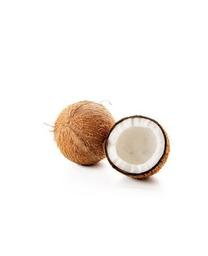coconut: (104, 114, 171, 180), (54, 100, 117, 167)
